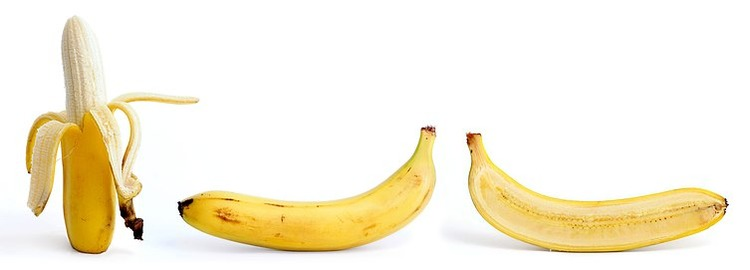banana: (176, 126, 441, 255), (462, 131, 731, 254)
